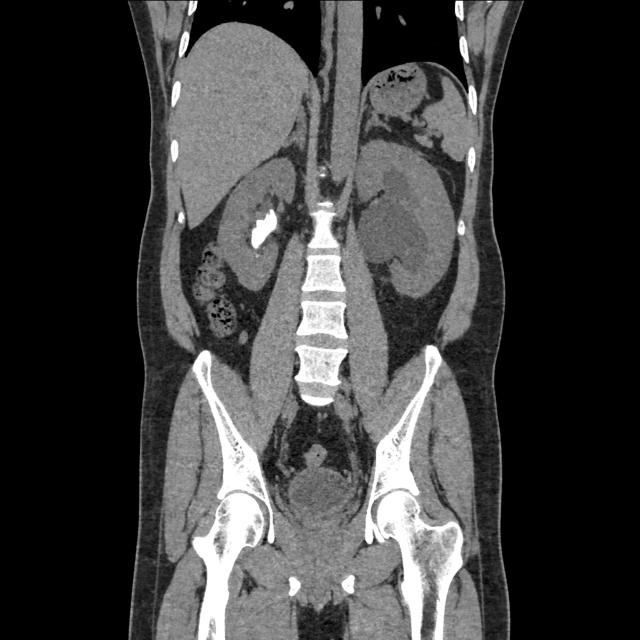kidneystone: (251, 210, 278, 249)
